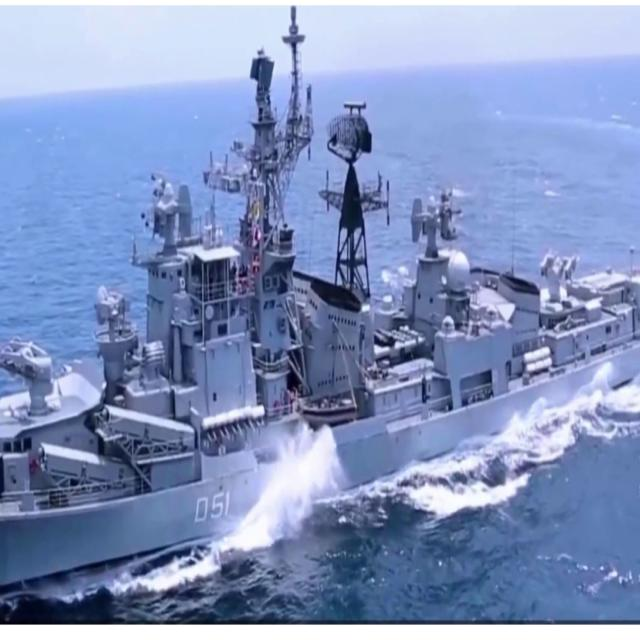OCR: (183, 480, 233, 531)
